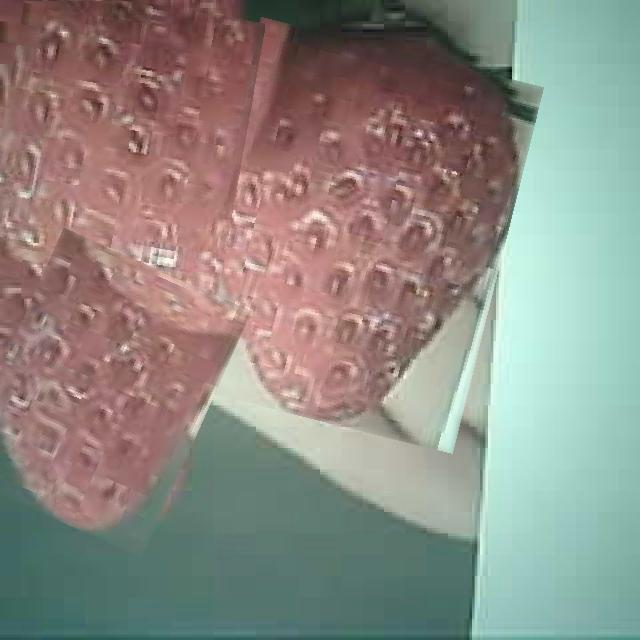strawberry: (191, 31, 524, 439), (0, 0, 253, 304), (0, 243, 229, 544)
